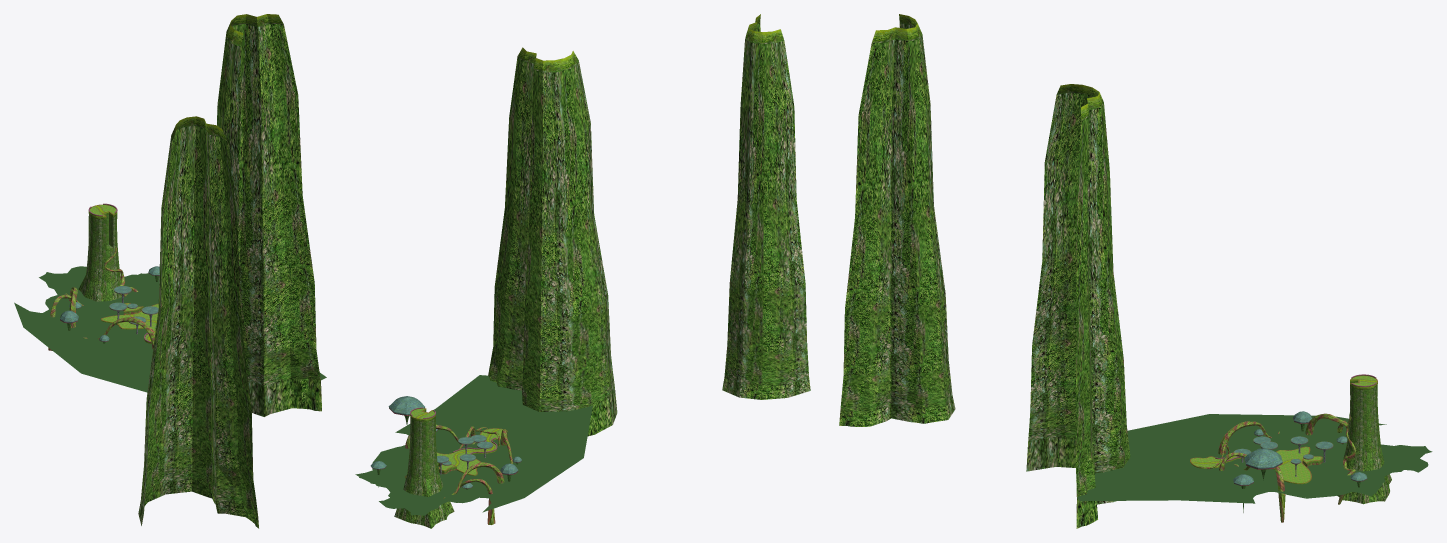
Rendered from Lost Jungle 1.obj.
3 renders of one model, left to right at view 1: azimuth 30°, elevation 25°; view 2: azimuth 150°, elevation 25°; view 3: azimuth 270°, elevation 25°, orthographic. The views are drawn at different scales.
Visible parts, largest first — view 1: Object_2.001, Object_2, Object_2.002; view 2: Object_2.001, Object_2, Object_2.002; view 3: Object_2.001, Object_2, Object_2.002.
Part boxes in pixels (bbox=[...]): Object_2.001: bbox=[48, 14, 321, 528]; Object_2: bbox=[14, 266, 326, 392]; Object_2.002: bbox=[88, 203, 158, 343]; Object_2.001: bbox=[370, 14, 810, 528]; Object_2: bbox=[355, 375, 592, 515]; Object_2.002: bbox=[410, 407, 507, 475]; Object_2.001: bbox=[839, 14, 1391, 528]; Object_2: bbox=[1077, 414, 1432, 503]; Object_2.002: bbox=[1190, 374, 1377, 483].
Size of the model in its own units: 1798 by 2498 by 3327.
24 materials, 24 textured.
